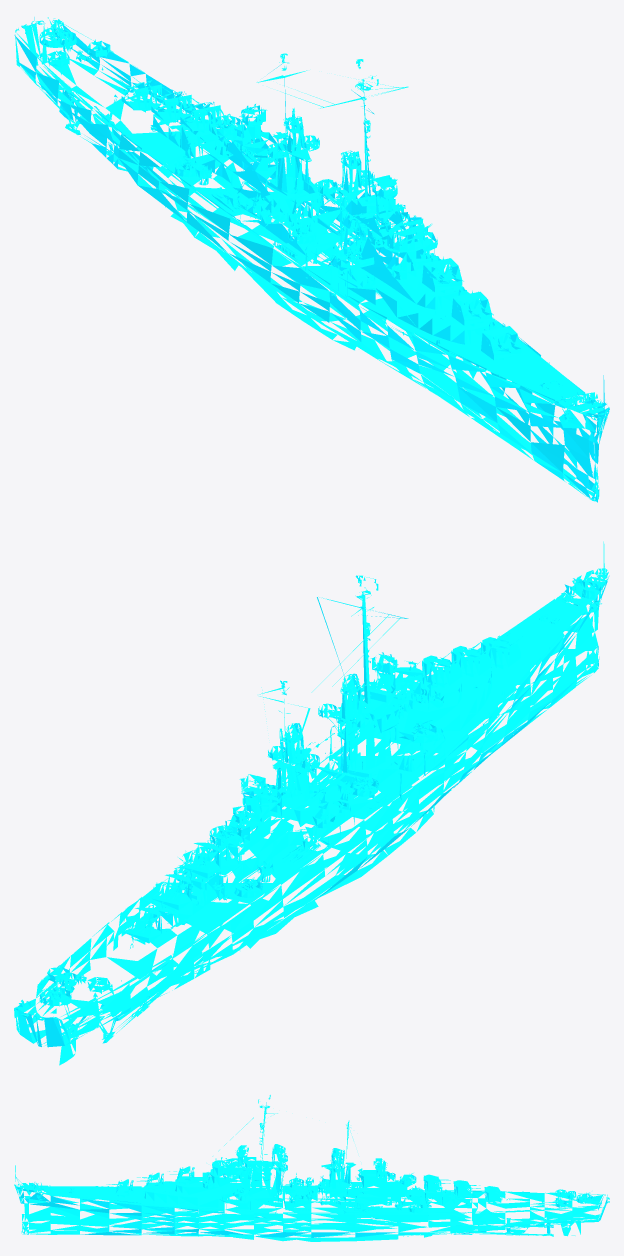
File: Flint.glb
3 views of the same model, one above another, from view 1: azimuth 30°, elevation 25°; view 2: azimuth 150°, elevation 25°; view 3: azimuth 270°, elevation 25° (orthographic). The views are drawn at different scales.
Size of the model in its own units: 1.09 by 2.88 by 11.05.
